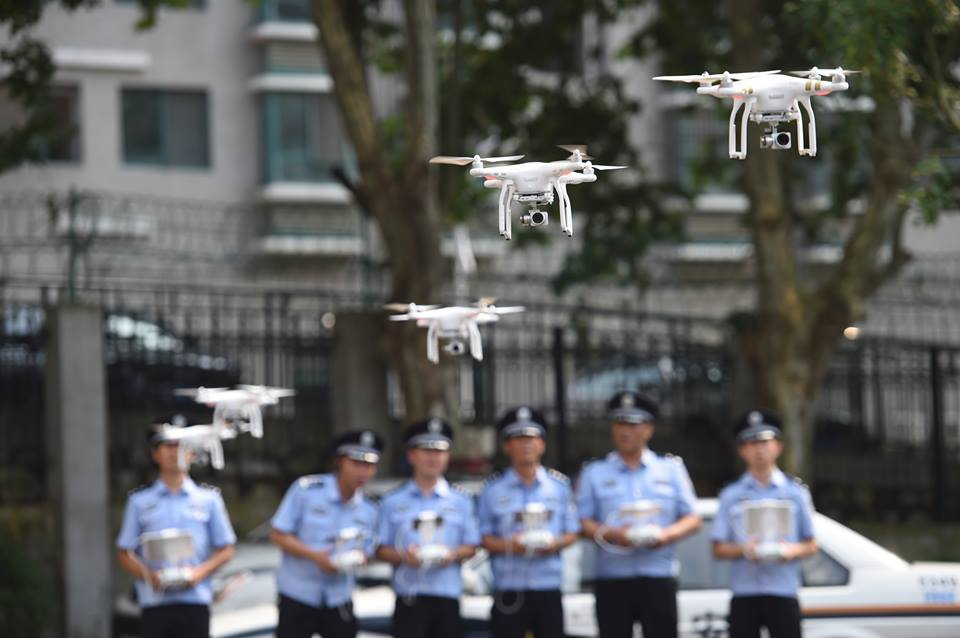drone: (649, 64, 864, 163), (427, 144, 627, 243), (382, 293, 531, 369), (177, 379, 298, 444), (154, 415, 251, 478)
person: (575, 387, 707, 638), (113, 414, 238, 638), (466, 405, 586, 638), (706, 408, 821, 638), (374, 424, 497, 638), (269, 432, 392, 638)
